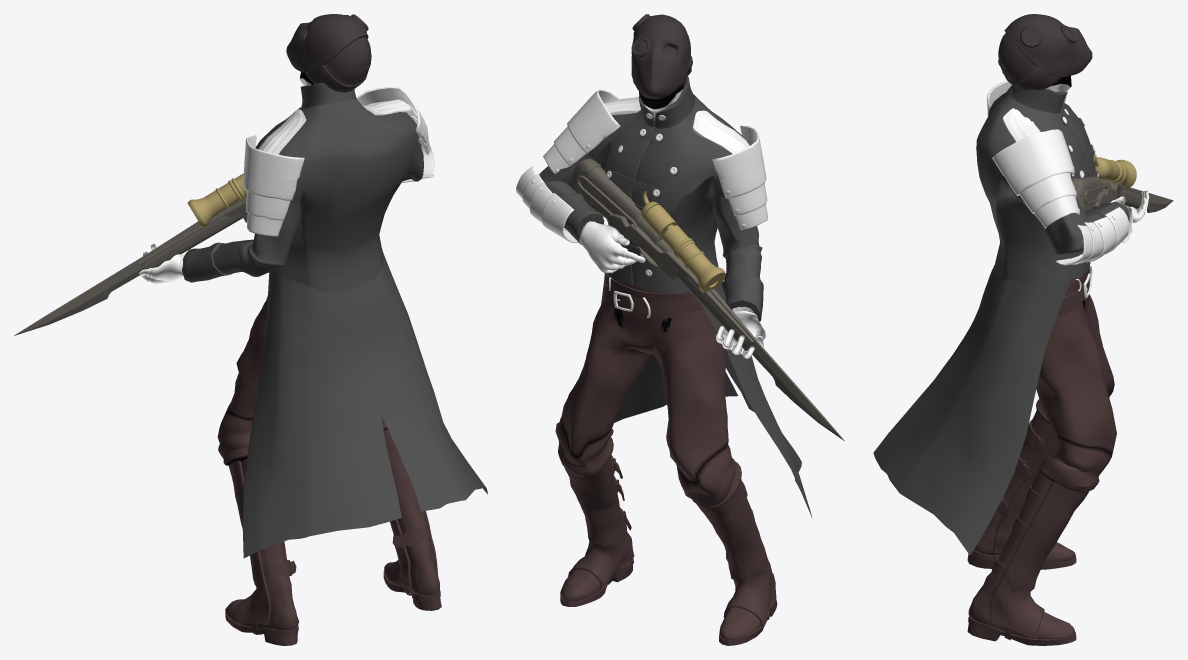
File: Shot_2.fbx
3 views of the same model, side by side, from view 1: azimuth 30°, elevation 25°; view 2: azimuth 150°, elevation 25°; view 3: azimuth 270°, elevation 25° (orthographic).
Parts seen in each view (by area): view 1: Player_Coat_low, Player_Boots_low, Player_Mask_low, Player_Pants_low, Player_Plate_R_1_low, Blade_low, Player_Coat_Tassel_low, Barrel1_low, Handle_low, Player_Plate_L_1_low, Player_Plate_R_2_low, Frame_low (+1 smaller); view 2: Player_Coat_low, Player_Pants_low, Player_Boots_low, Player_Mask_low, Handle_low, Player_Hands_low, Player_Plate_R_1_low, Frame_low, Player_Plate_L_1_low, Player_Coat_Tassel_low, Barrel1_low, Blade_low (+10 smaller); view 3: Player_Coat_low, Player_Boots_low, Player_Pants_low, Player_Mask_low, Player_Plate_L_1_low, Player_Plate_L_2_low, Handle_low, Player_Plate_L_3_low, Player_Coat_Tassel_low, Player_Mask_Vents_low, Barrel1_low, Player_Plate_Hand_4_low (+6 smaller).
Part boxes in pixels (box(x1,y1,x2,y2)): Player_Coat_low: box(182, 83, 487, 558); Player_Boots_low: box(225, 429, 441, 645); Player_Mask_low: box(286, 14, 371, 92); Player_Pants_low: box(217, 295, 387, 465); Player_Plate_R_1_low: box(243, 135, 304, 200); Blade_low: box(14, 222, 199, 335); Player_Coat_Tassel_low: box(258, 99, 412, 154); Barrel1_low: box(187, 173, 246, 227); Handle_low: box(144, 212, 242, 268); Player_Plate_L_1_low: box(356, 87, 428, 144); Player_Plate_R_2_low: box(245, 191, 290, 220); Frame_low: box(138, 196, 247, 266); Player_Coat_low: box(539, 76, 812, 518); Player_Pants_low: box(555, 278, 741, 508); Player_Boots_low: box(560, 455, 777, 645); Player_Mask_low: box(631, 14, 692, 99); Handle_low: box(568, 158, 748, 350); Player_Hands_low: box(579, 221, 765, 358); Player_Plate_R_1_low: box(712, 125, 766, 198); Frame_low: box(607, 214, 757, 345); Player_Plate_L_1_low: box(567, 89, 620, 153); Player_Coat_Tassel_low: box(604, 96, 749, 153); Barrel1_low: box(662, 225, 725, 292); Blade_low: box(709, 289, 844, 440); Player_Coat_low: box(873, 85, 1129, 555); Player_Boots_low: box(967, 410, 1088, 645); Player_Pants_low: box(1036, 277, 1116, 492); Player_Mask_low: box(998, 14, 1092, 90); Player_Plate_L_1_low: box(992, 129, 1074, 196); Player_Plate_L_2_low: box(1019, 173, 1076, 213); Handle_low: box(1071, 176, 1141, 213); Player_Plate_L_3_low: box(1034, 195, 1079, 228); Player_Coat_Tassel_low: box(1002, 108, 1040, 141); Player_Mask_Vents_low: box(1020, 25, 1076, 47); Barrel1_low: box(1108, 159, 1136, 189); Player_Plate_Hand_4_low: box(1105, 207, 1129, 254).
Bounding box in the file's own units: 118 × 178 × 82.75.
